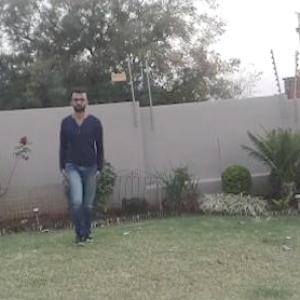follow: (59, 88, 112, 240)
